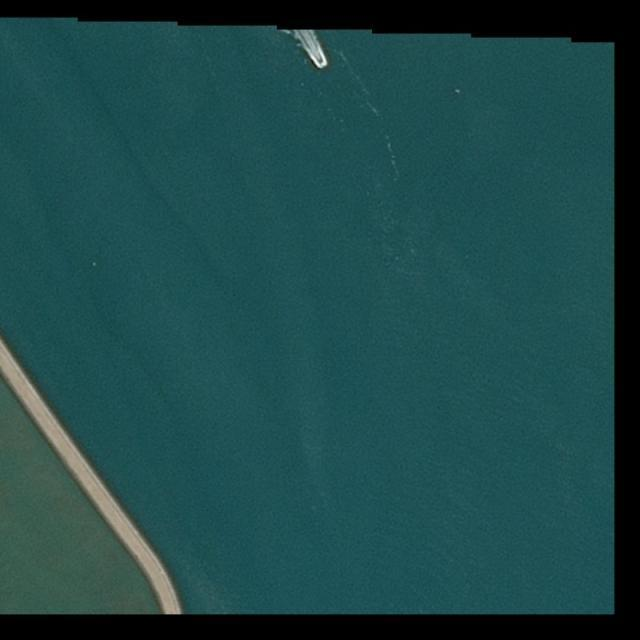ship: (318, 60, 327, 70)
